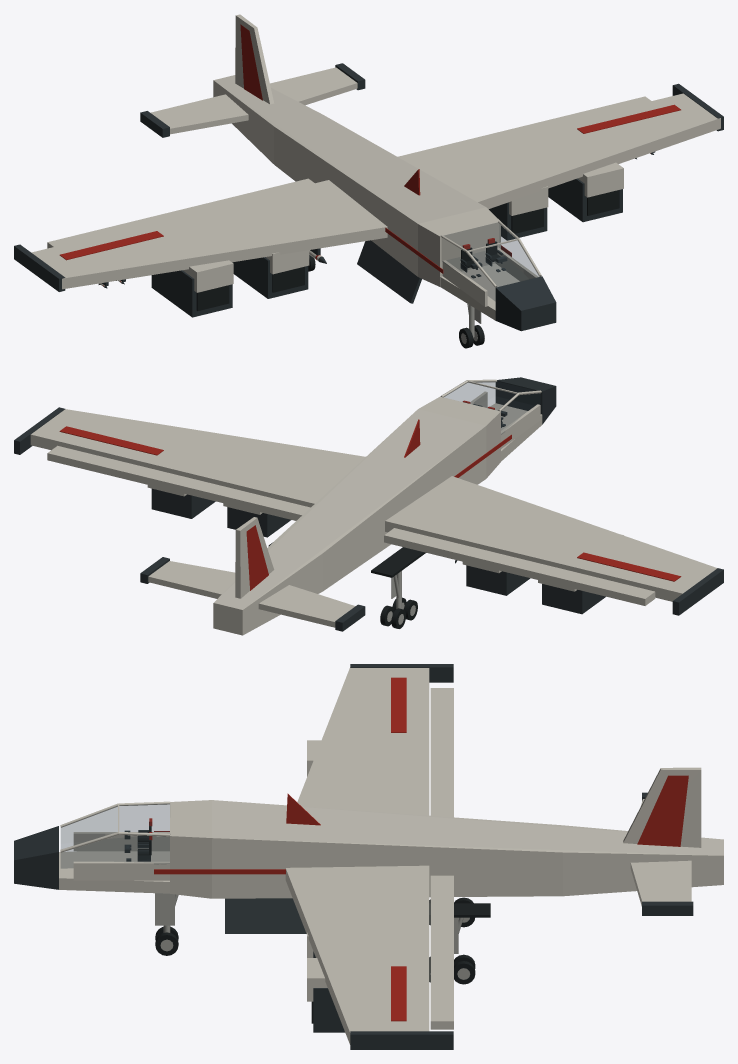
The picture shows the model from 3 angles, top to bottom: view 1: azimuth 30°, elevation 25°; view 2: azimuth 150°, elevation 25°; view 3: azimuth 270°, elevation 25°; orthographic projection. The views are drawn at different scales.
Parts seen in each view (by area): view 1: bomber-painted, bomber-glazing, flap-left-painted, flap-right-painted; view 2: bomber-painted, flap-left-painted, flap-right-painted, bomber-glazing, breakaway-0-painted; view 3: bomber-painted, bomber-glazing, flap-right-painted, flap-left-painted, breakaway-1-painted, landing-gear-nose-painted.
Boxes of the visible parts, x1,y1,x2,y2 form: bomber-painted: (14, 14, 723, 331); bomber-glazing: (442, 223, 539, 300); flap-left-painted: (47, 178, 314, 248); flap-right-painted: (397, 96, 651, 161); bomber-painted: (14, 377, 723, 635); flap-left-painted: (384, 528, 655, 605); flap-right-painted: (47, 445, 310, 520); bomber-glazing: (444, 381, 540, 434); breakaway-0-painted: (335, 604, 365, 631); bomber-painted: (14, 664, 723, 1049); bomber-glazing: (61, 804, 169, 868); flap-right-painted: (430, 875, 453, 1029); flap-left-painted: (430, 688, 453, 817); breakaway-1-painted: (642, 901, 693, 915); landing-gear-nose-painted: (155, 893, 178, 932).
Bounding box in the file's own units: 195 × 44.83 × 158.
